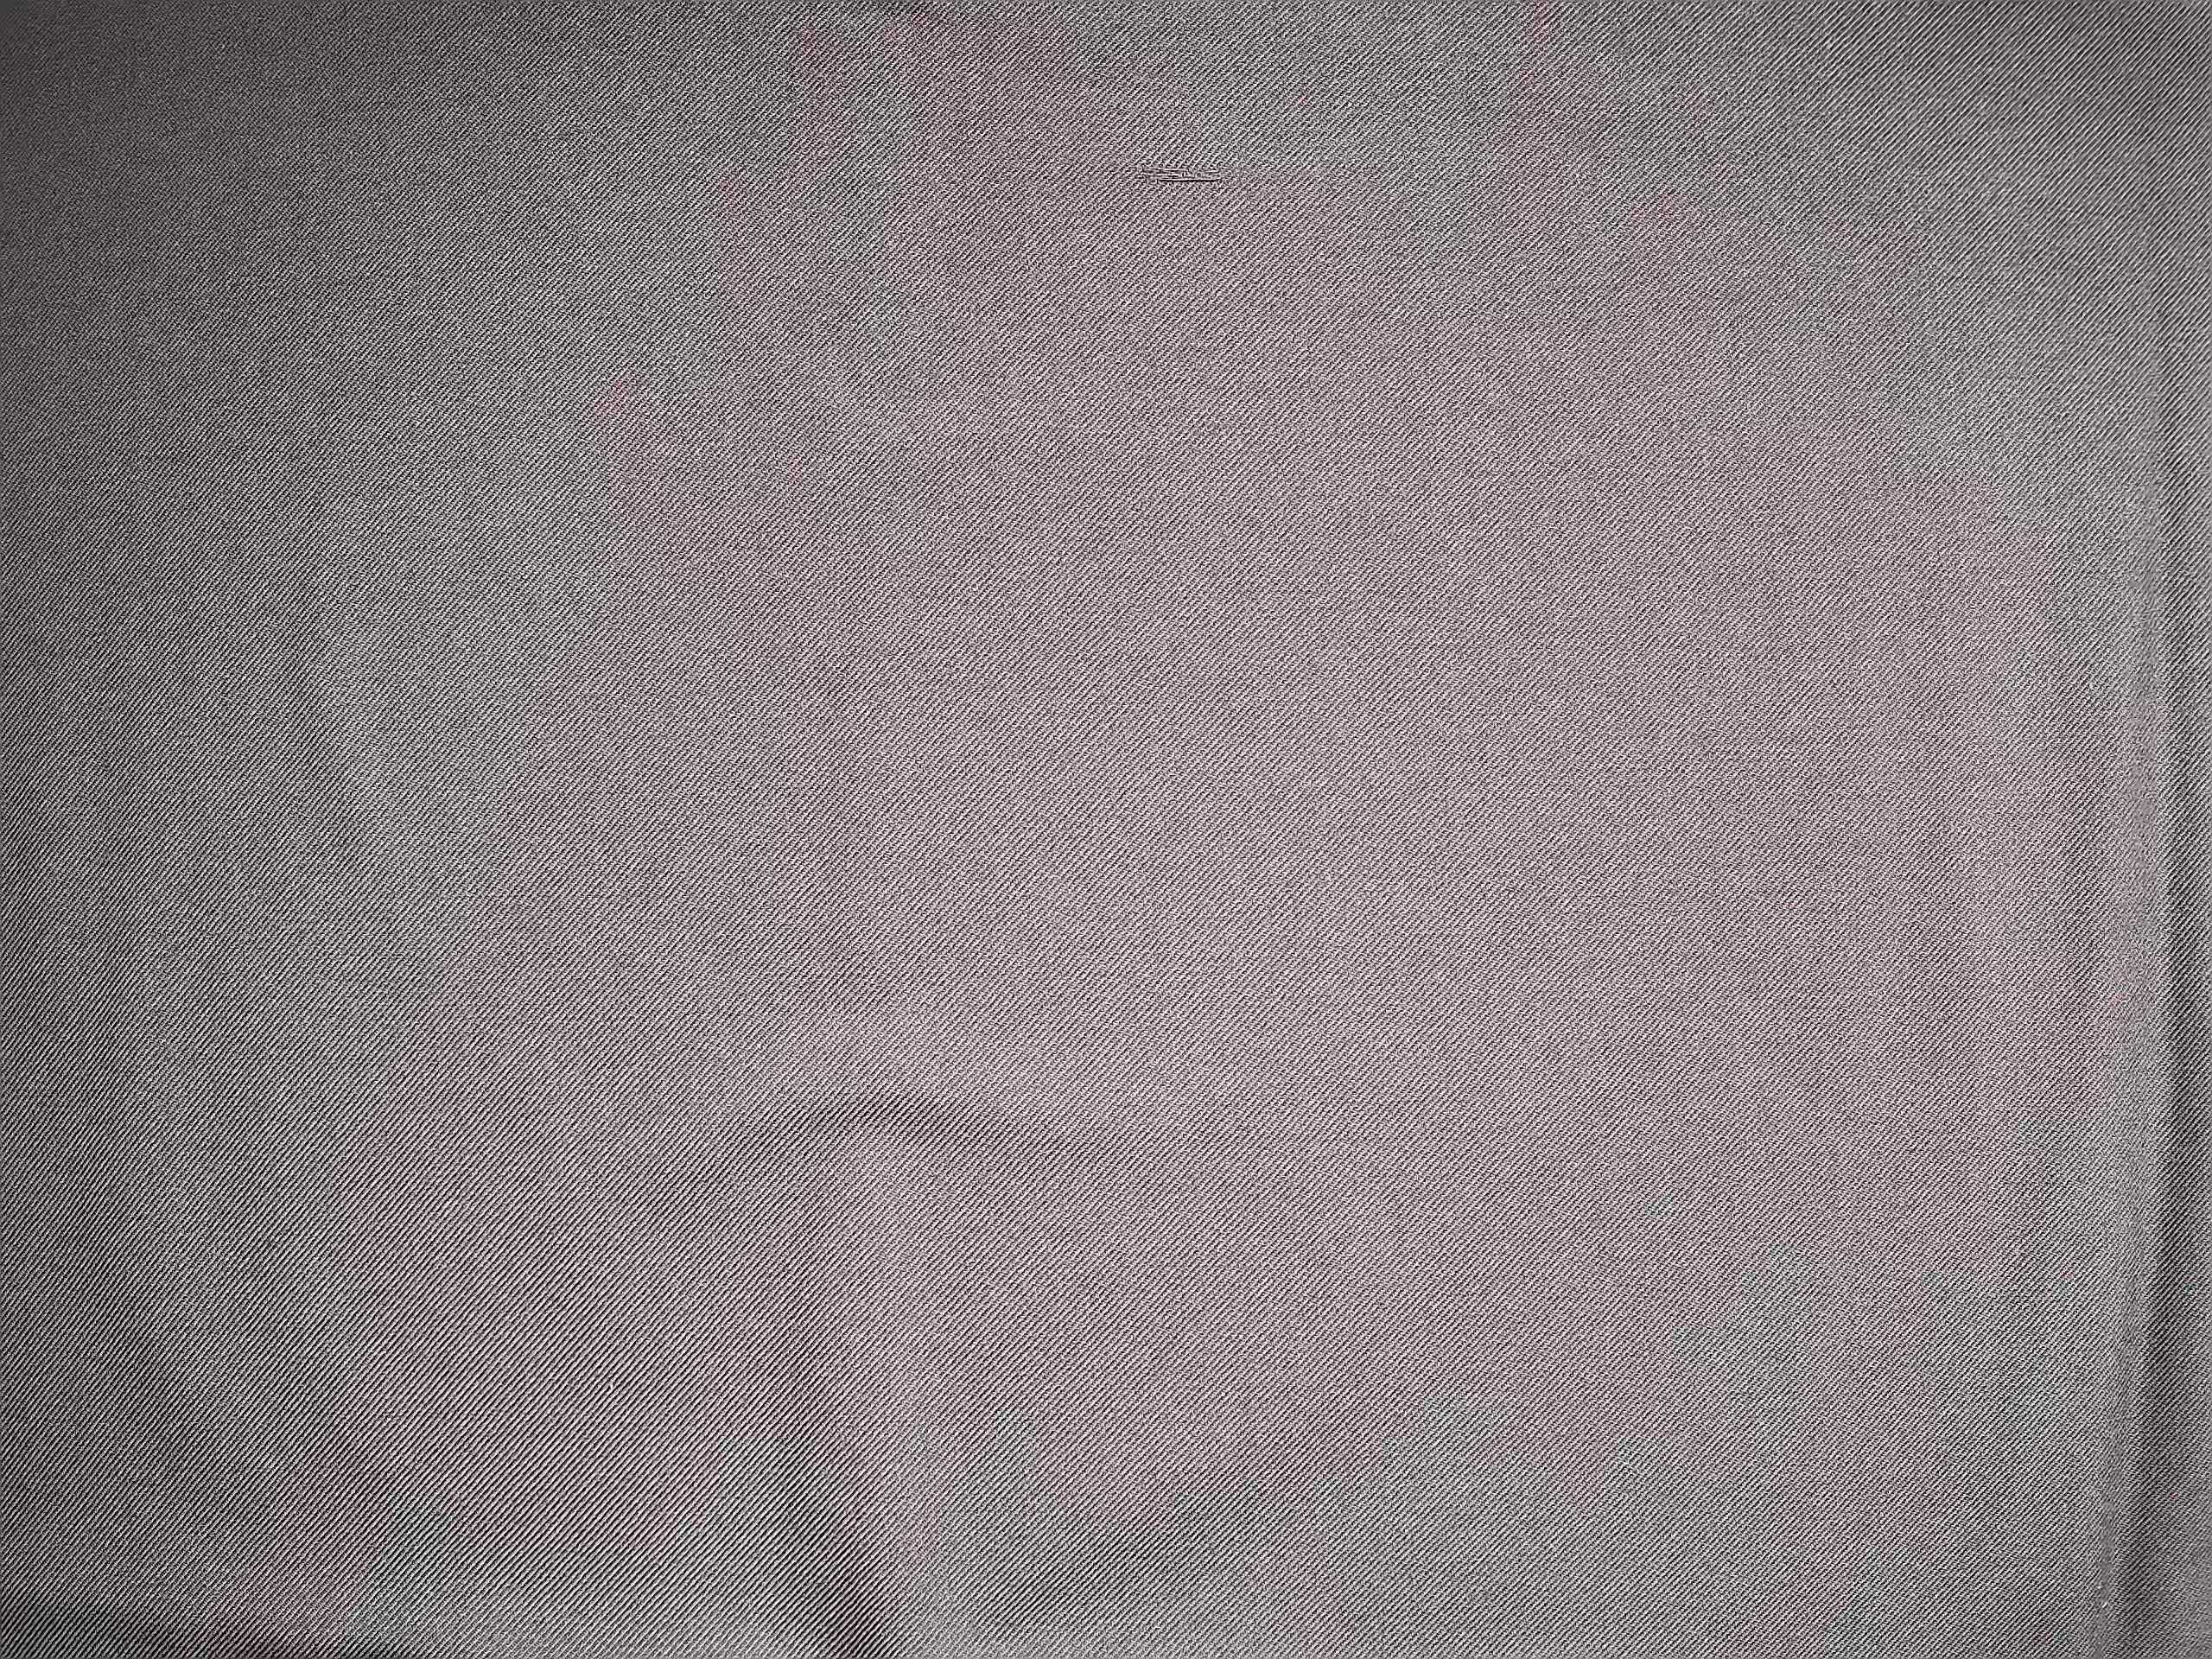jumps: (1083, 146, 1298, 214)
